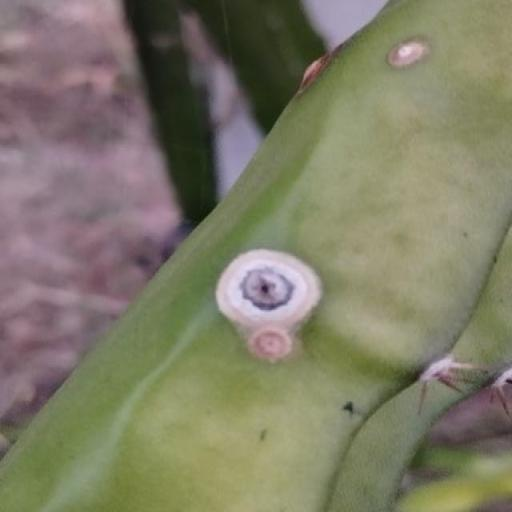stemcanker: (212, 238, 337, 373), (372, 29, 444, 82)
